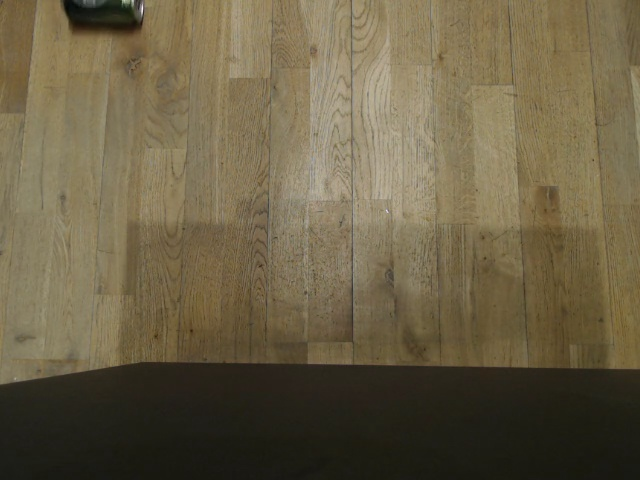beer: (54, 0, 151, 36)
